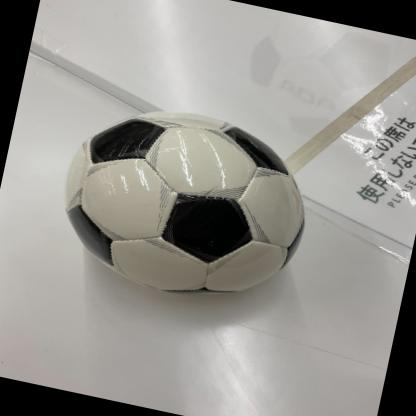ball: (48, 86, 321, 315)
